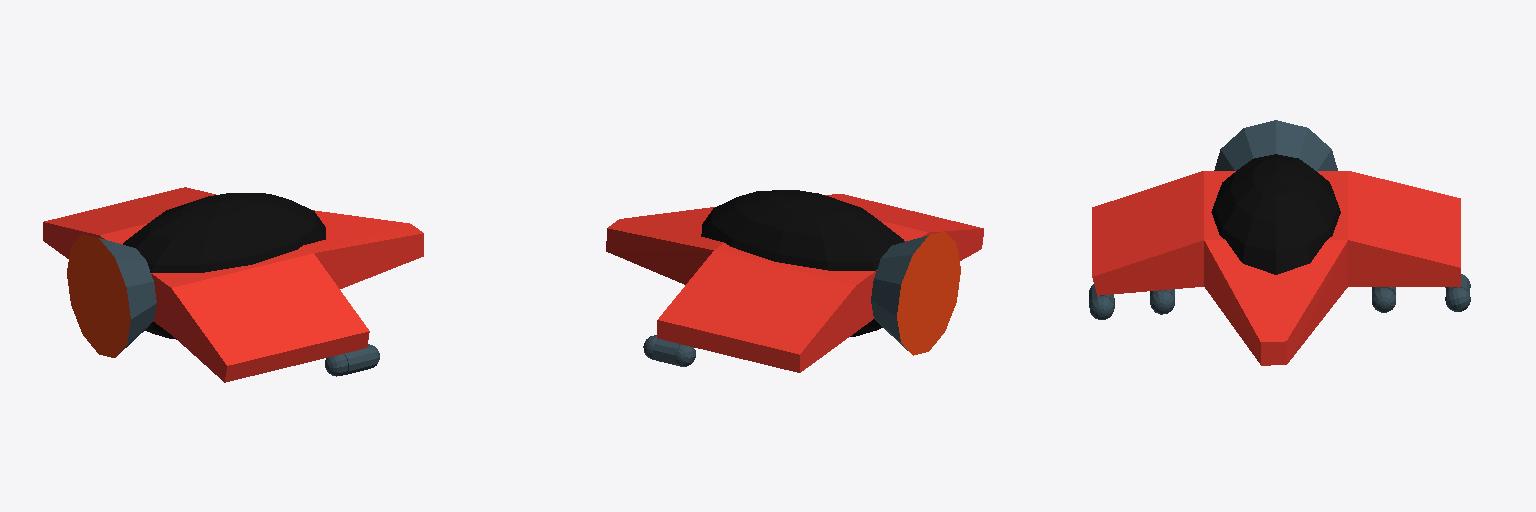
3 views of the same model, side by side, from view 1: azimuth 30°, elevation 25°; view 2: azimuth 150°, elevation 25°; view 3: azimuth 270°, elevation 25° (orthographic).
Parts seen in each view (by area): view 1: group[number redacted], group[number redacted], group[number redacted]; view 2: group[number redacted], group[number redacted], group[number redacted]; view 3: group[number redacted], group[number redacted], group[number redacted].
Part boxes in pixels (left/top/right/bottom): group[number redacted]: left=43, top=187, right=423, bottom=382; group[number redacted]: left=123, top=193, right=325, bottom=339; group[number redacted]: left=67, top=234, right=156, bottom=357; group[number redacted]: left=606, top=194, right=983, bottom=372; group[number redacted]: left=701, top=190, right=904, bottom=336; group[number redacted]: left=871, top=231, right=960, bottom=355; group[number redacted]: left=1092, top=171, right=1460, bottom=365; group[number redacted]: left=1211, top=154, right=1340, bottom=274; group[number redacted]: left=1214, top=120, right=1337, bottom=170.
Bounding box in the file's own units: 0.7143 × 0.2788 × 0.742.